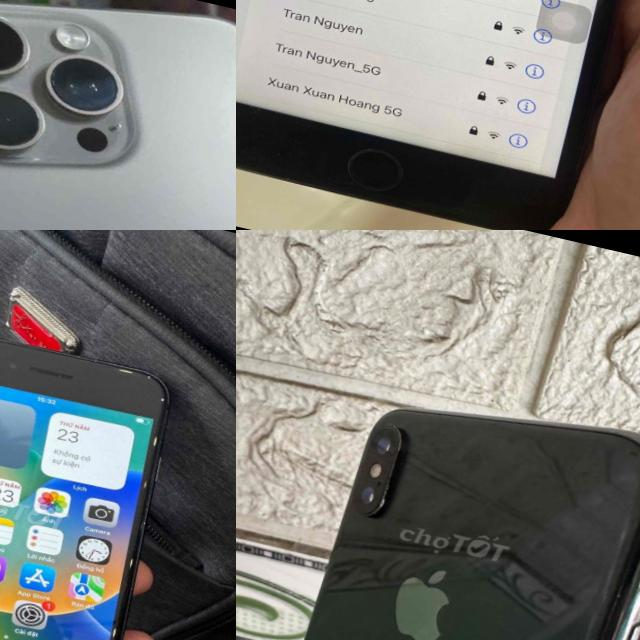gen_11: (0, 303, 205, 640)
gen_15: (0, 0, 236, 230)
gen_7_8: (236, 0, 640, 230)
gen_x_xs: (236, 357, 640, 640)
scratch: (0, 2, 139, 180), (547, 563, 640, 640), (71, 349, 176, 403)
